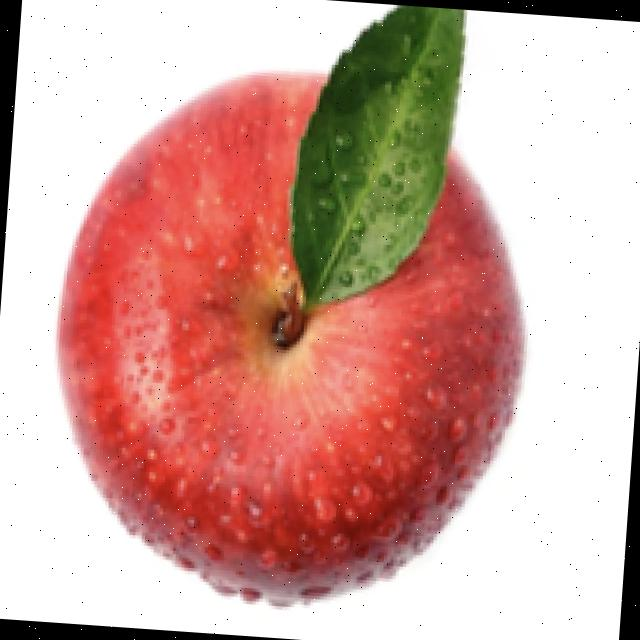apple: (49, 4, 533, 610)
